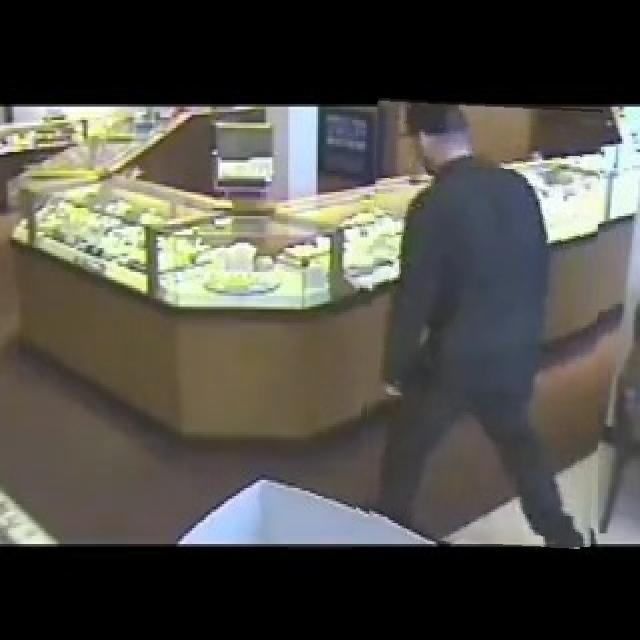Normal: (360, 101, 598, 547)
